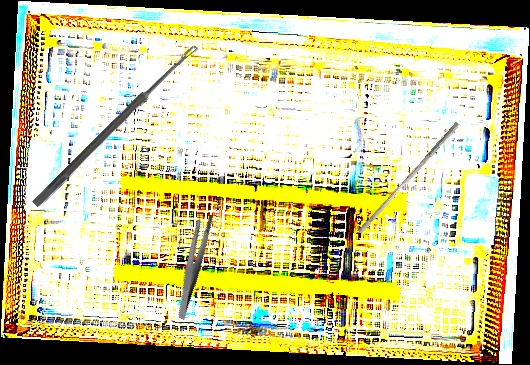Dressing Forceps: (151, 210, 236, 321)
Pusher: (357, 117, 460, 238)
Surgical Spoon: (32, 42, 199, 209)
